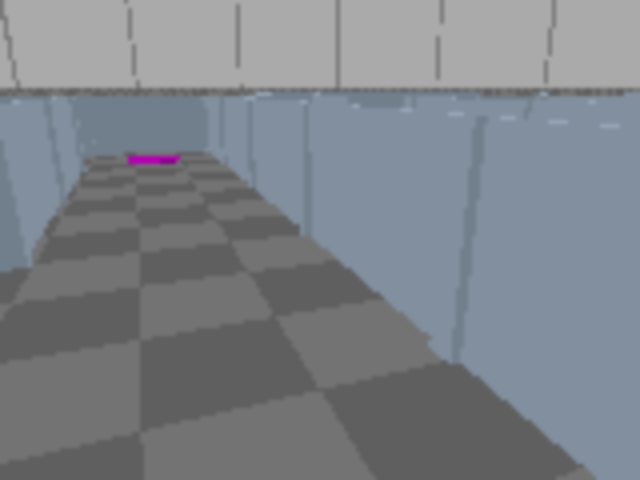goal_zone: (129, 155, 181, 164)
